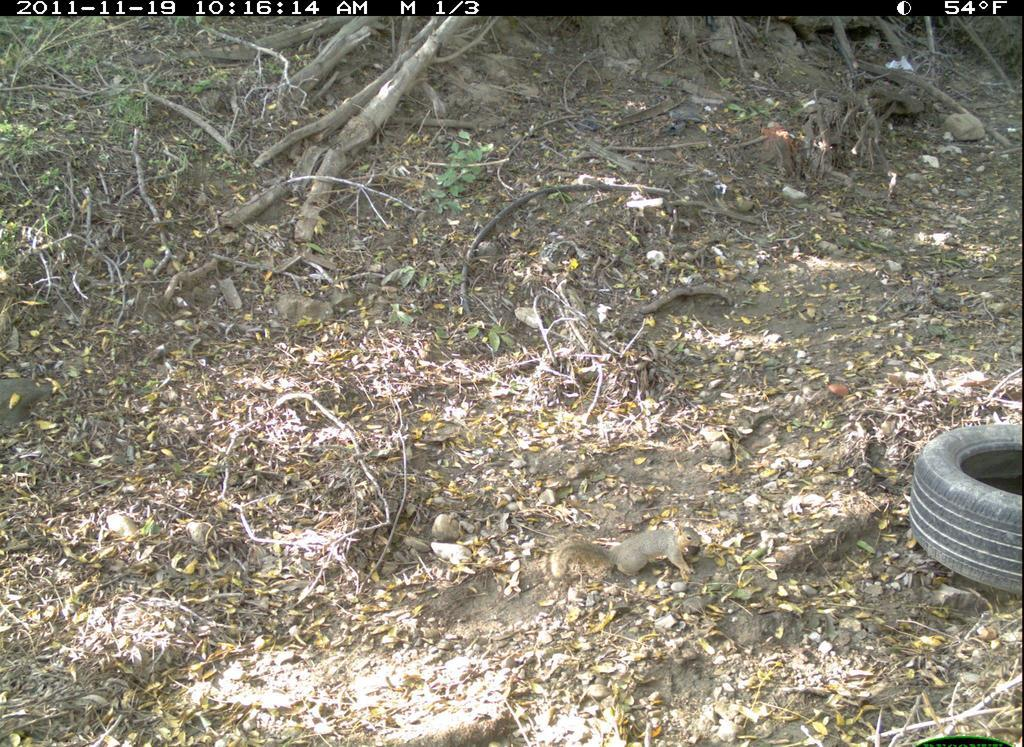squirrel: (538, 518, 713, 598)
